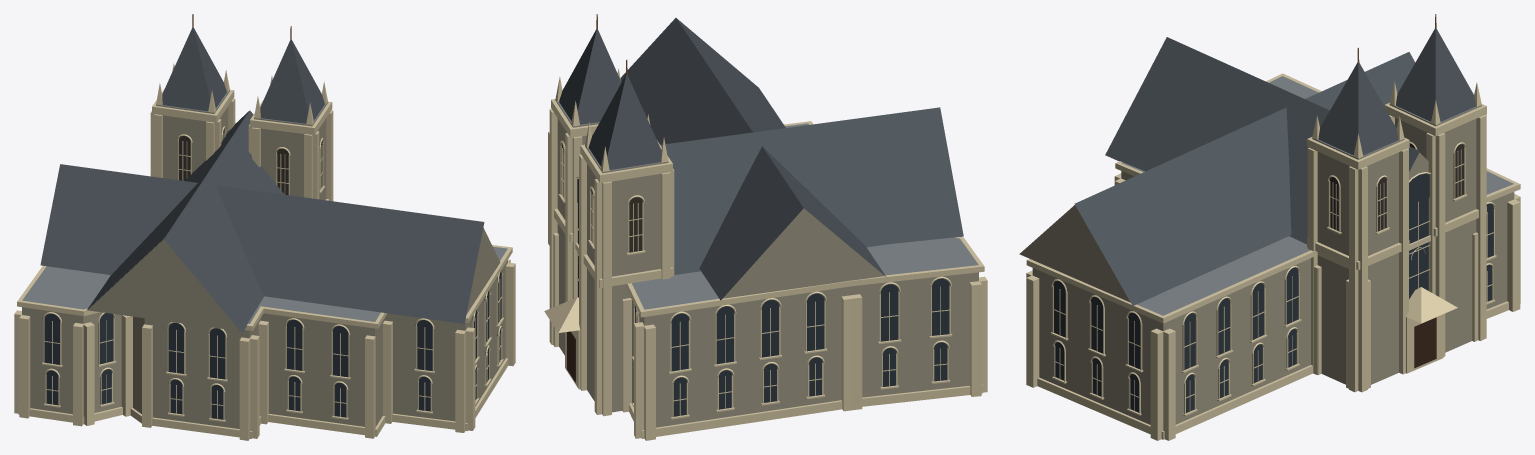
File: kensington_temple.glb
The picture shows the model from 3 angles, left to right: view 1: azimuth 30°, elevation 25°; view 2: azimuth 150°, elevation 25°; view 3: azimuth 270°, elevation 25°; orthographic projection. The views are drawn at different scales.
Bounding box in the file's own units: 38.64 × 25.23 × 35.52.
